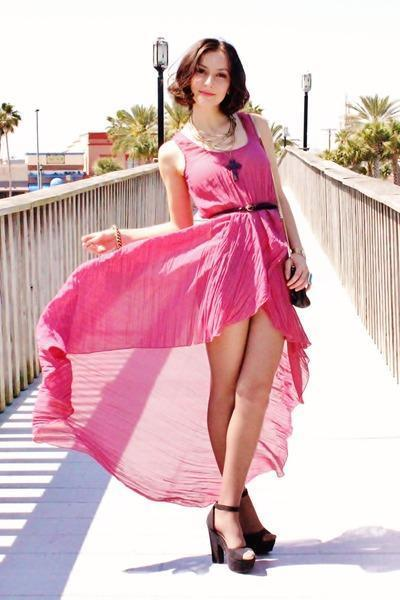dress: (31, 111, 310, 507)
shoe: (203, 501, 275, 570)
